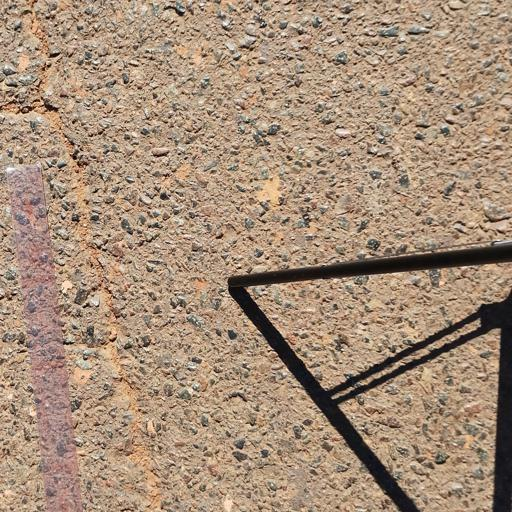GRIETA: (26, 0, 164, 511)
